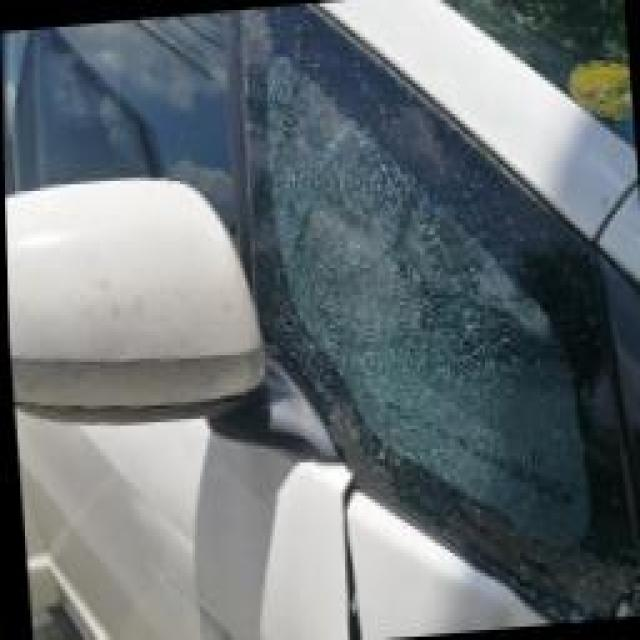Door: (222, 0, 640, 640)
